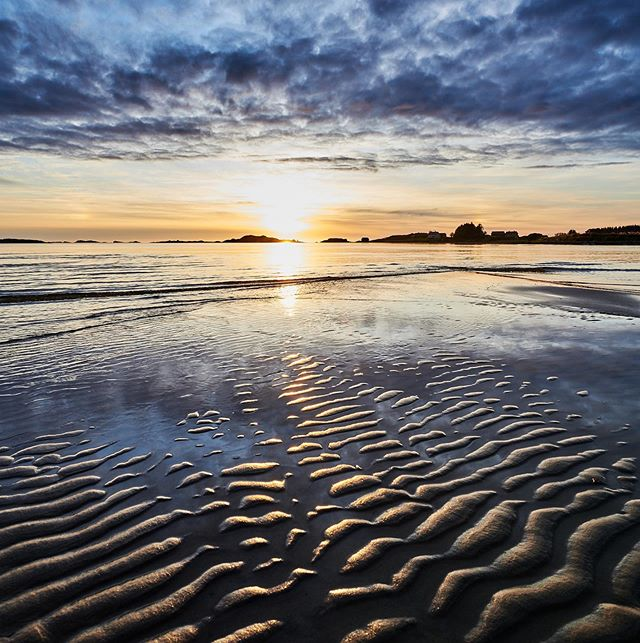sea: (11, 250, 640, 643)
sky: (12, 1, 640, 233)
sun: (256, 179, 318, 234)
